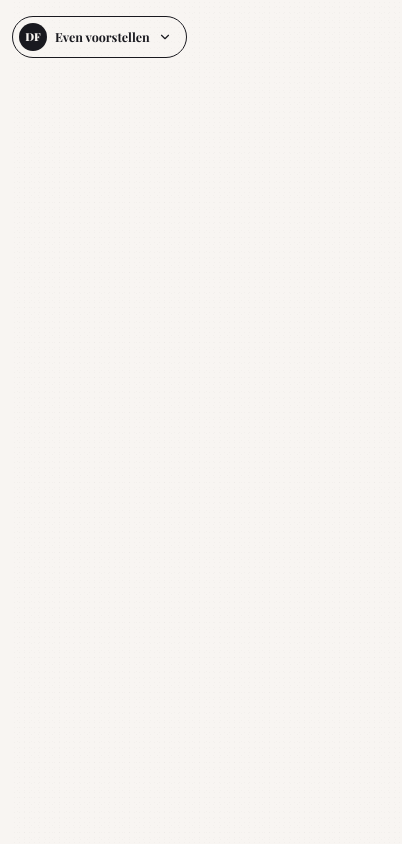
it: PloegleiderIntro › klapt weer dicht
Click the button. click: (99, 37)
box: [12,16,187,58]
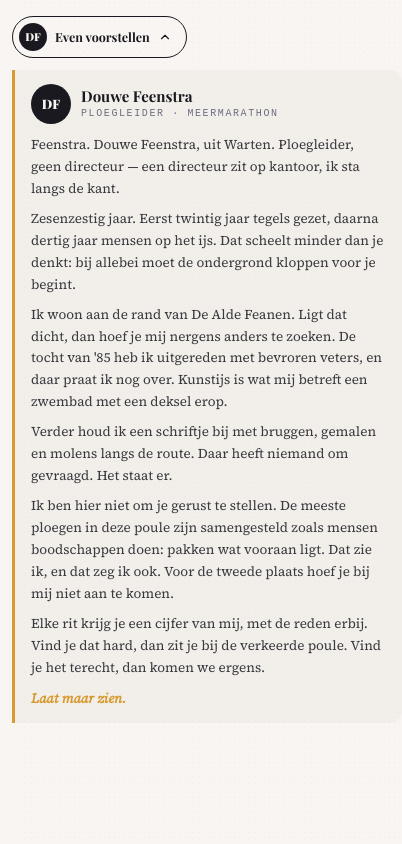
Click the button. click: (99, 37)
box: [12,16,187,58]
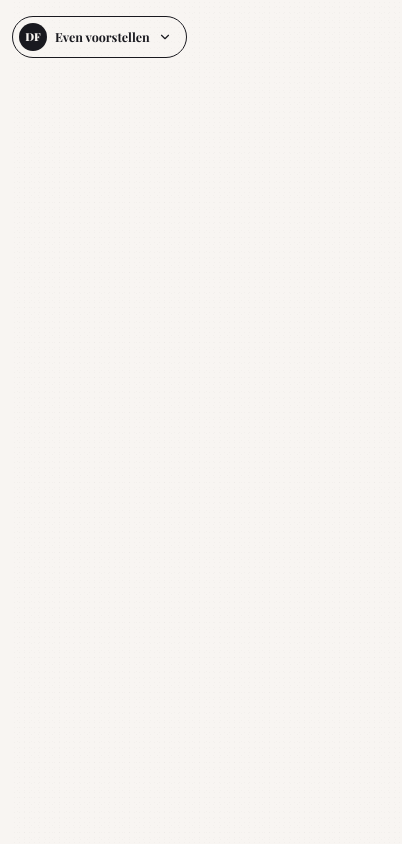
Expected: the text "Warten" is gone
